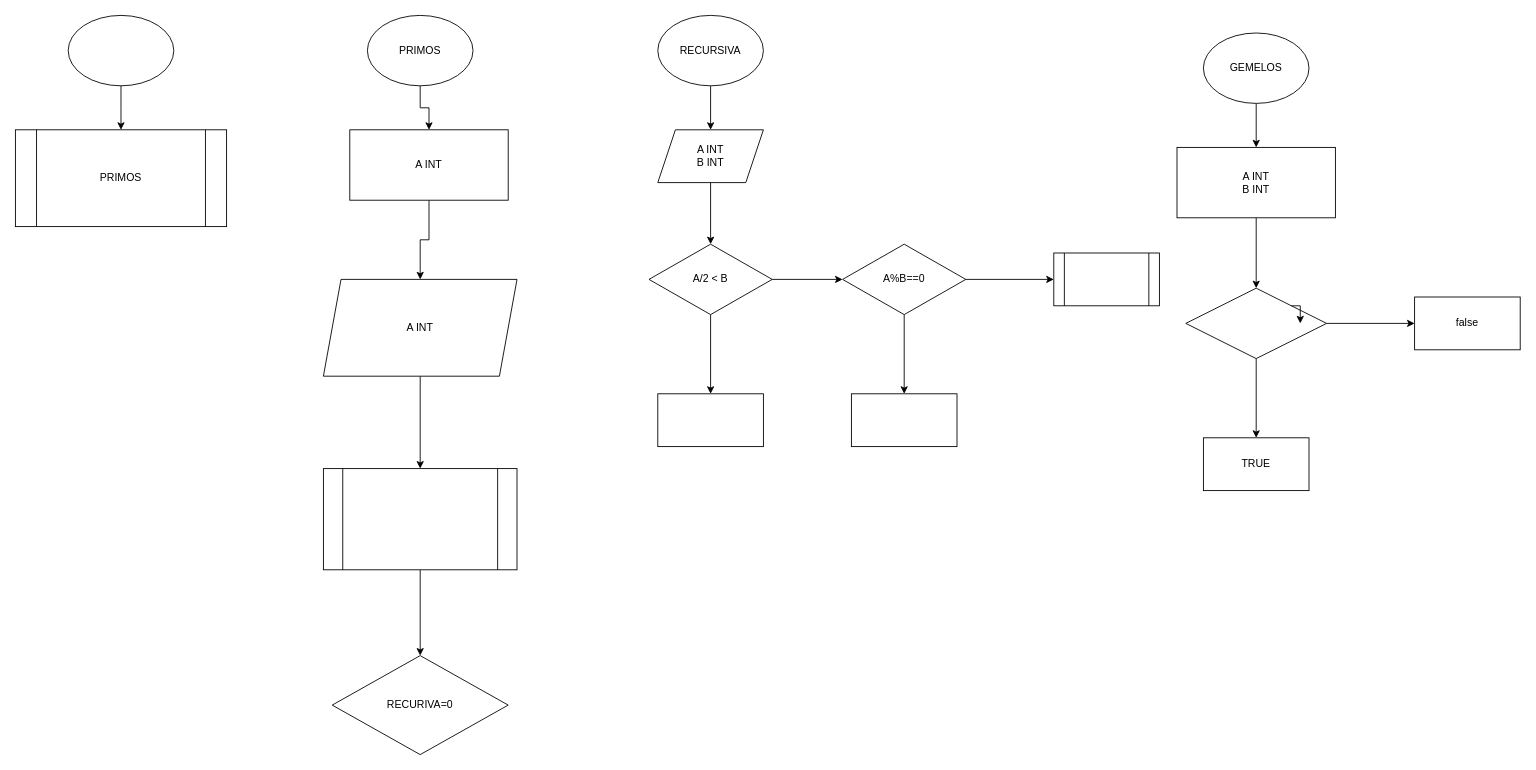
This 1536x770 diagram has some shape labels left out. The shapes that lost their labels are listed below. From the top down, each one's box as (x1, y1, x2, y2) in pixels, then its label:
(67, 15, 174, 86): MAIN
(1053, 252, 1159, 306): RECURISVA A, B+1
(1185, 287, 1327, 359): A>B && A-B=2
(657, 393, 763, 447): RETURN 1
(851, 393, 957, 447): RETURN 0
(323, 468, 517, 570): RECURSIVA A INT
